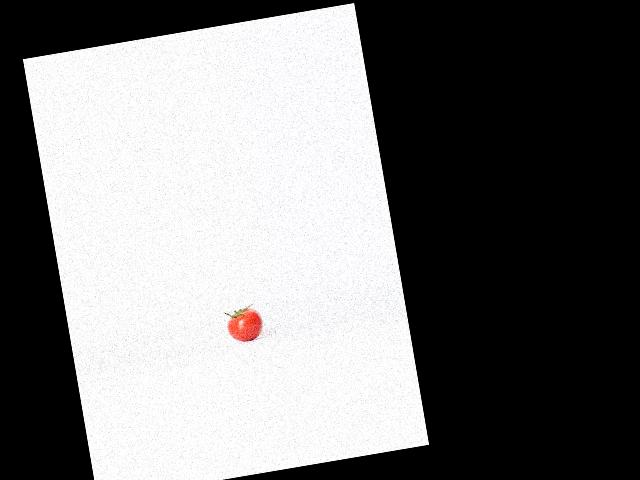tomato: (225, 306, 266, 343)
